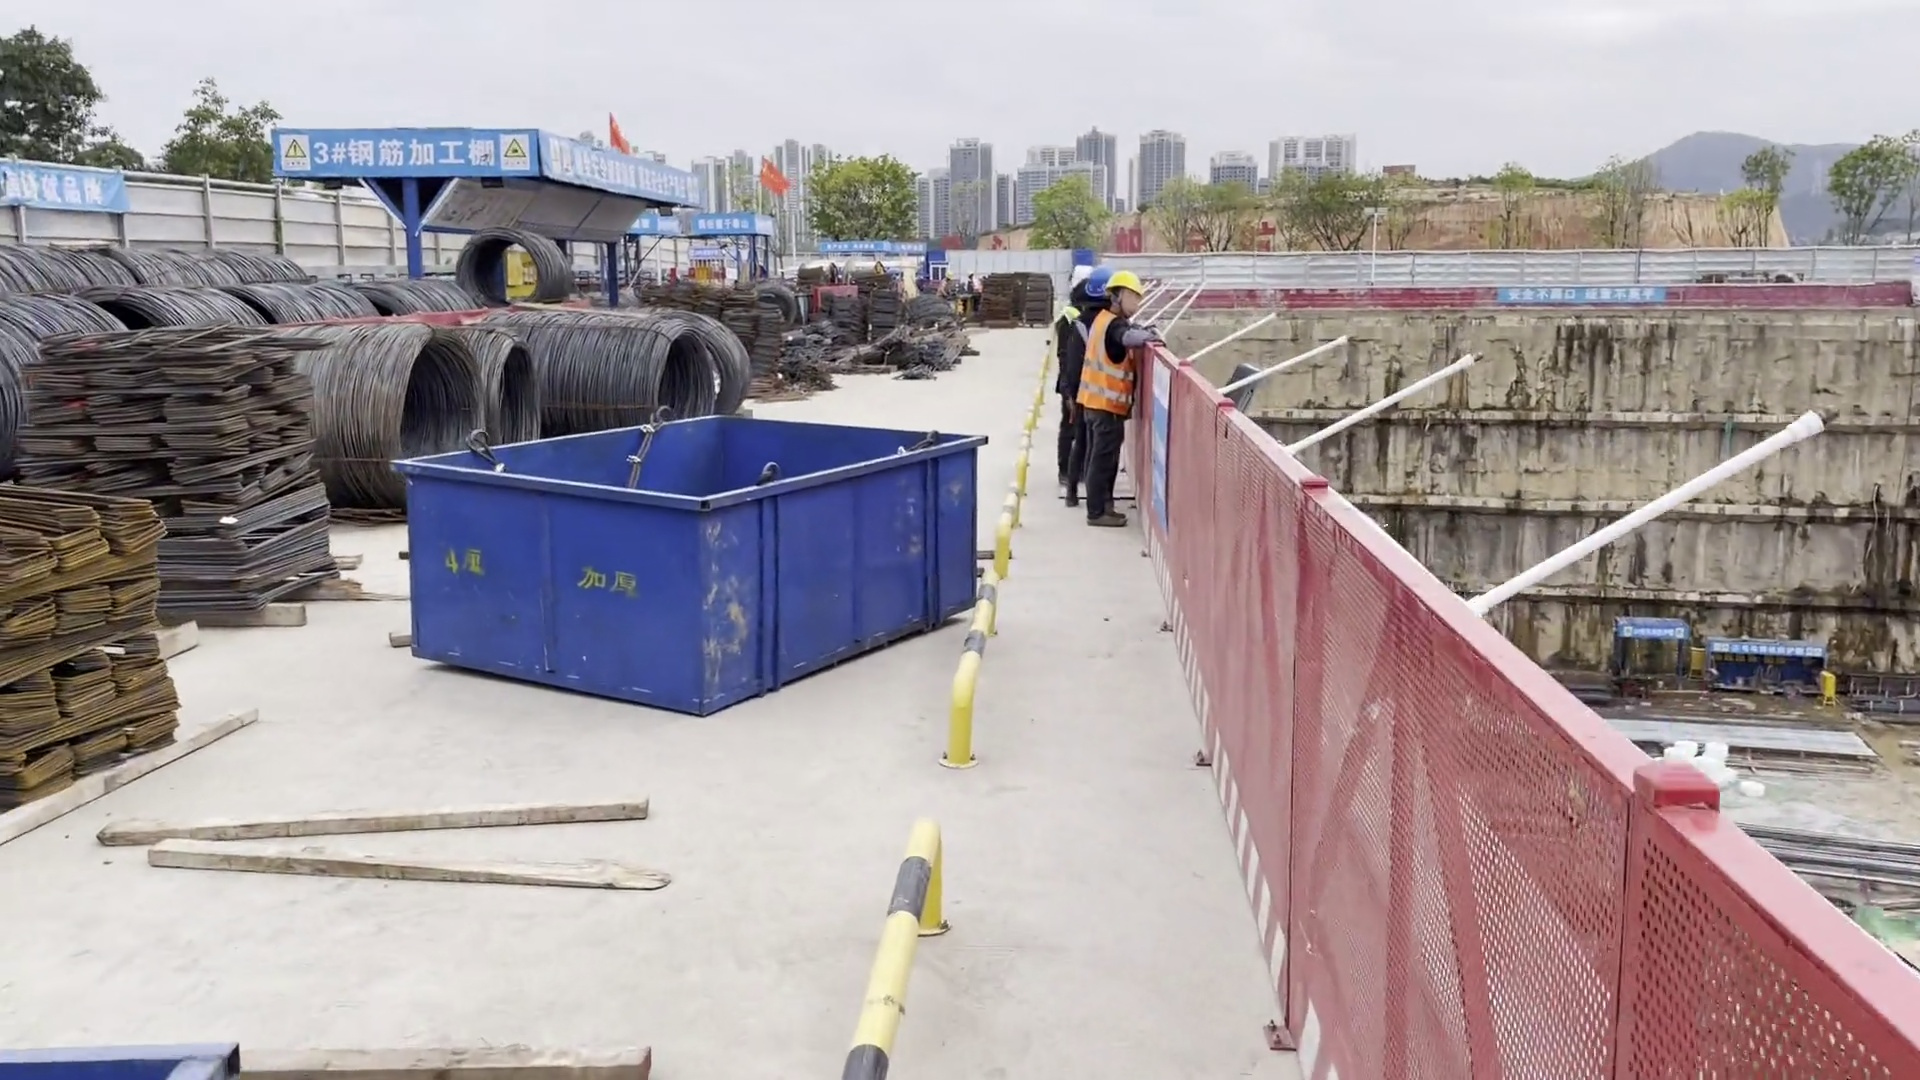fence: (1111, 313, 1920, 1078), (1151, 278, 1920, 319)
helmet: (1104, 270, 1143, 296), (1082, 270, 1111, 291), (944, 271, 953, 280), (965, 271, 973, 278)
hopper: (381, 409, 990, 719)
person: (1053, 262, 1144, 538), (935, 270, 954, 300), (965, 270, 983, 294)
slogan: (1505, 287, 1670, 312)
vest: (1082, 317, 1136, 419), (937, 282, 951, 297), (971, 279, 982, 293)
